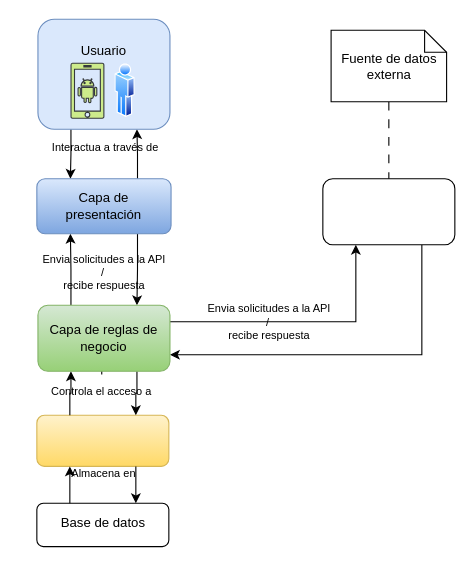
The diagram is 475 pixels wide and 572 high, and some of its shapes have lost their labels. The centre of each missing label's shape, as x and y in pixels:
Capa de datos: the point at 102,440
Servicios de llamadas (APIs externas): the point at 388,211
